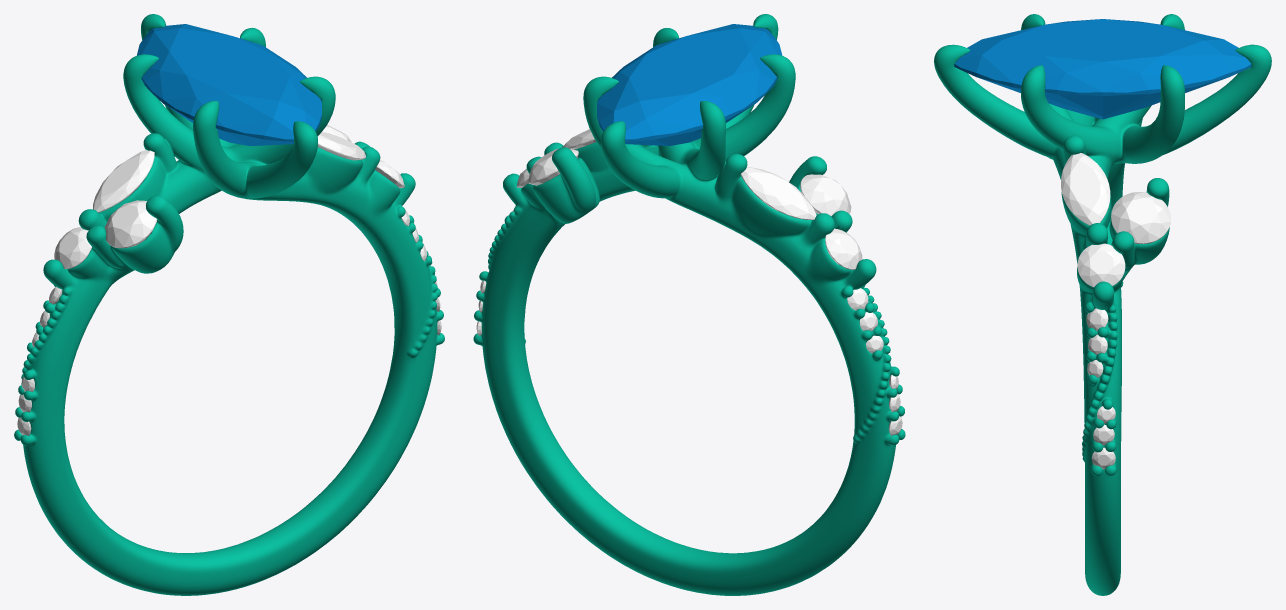
File: BE1D14842_MQ_200ct_RENDER.glb
3 views of the same model, side by side, from view 1: azimuth 30°, elevation 25°; view 2: azimuth 150°, elevation 25°; view 3: azimuth 270°, elevation 25° (orthographic).
Parts seen in each view (by area): view 1: Metal 01, CS_Diamond_Marquise, Diamond_Marquise_Side.015, Diamond_Round_Side.016, Diamond_Round_Side.017, Diamond_Marquise_Side.006; view 2: Metal 01, CS_Diamond_Marquise, Diamond_Marquise_Side.015, Diamond_Round_Side.016, Diamond_Round_Side.017, Diamond_Round_Side.007; view 3: Metal 01, CS_Diamond_Marquise, Diamond_Marquise_Side.006, Diamond_Round_Side.007, Diamond_Round_Side.008.
Part boxes in pixels (<box>): Metal 01: <box>14,14,444,595</box>; CS_Diamond_Marquise: <box>137,24,321,145</box>; Diamond_Marquise_Side.015: <box>93,150,154,212</box>; Diamond_Round_Side.016: <box>104,200,157,248</box>; Diamond_Round_Side.017: <box>54,227,91,269</box>; Diamond_Marquise_Side.006: <box>317,132,365,160</box>; Metal 01: <box>473,14,905,595</box>; CS_Diamond_Marquise: <box>597,24,782,145</box>; Diamond_Marquise_Side.015: <box>740,167,816,219</box>; Diamond_Round_Side.016: <box>800,174,851,216</box>; Diamond_Round_Side.017: <box>825,228,862,269</box>; Diamond_Round_Side.007: <box>528,148,578,185</box>; Metal 01: <box>934,14,1271,595</box>; CS_Diamond_Marquise: <box>954,19,1251,119</box>; Diamond_Marquise_Side.006: <box>1061,153,1110,225</box>; Diamond_Round_Side.007: <box>1111,192,1170,243</box>; Diamond_Round_Side.008: <box>1077,243,1125,287</box>.
Bounding box in the file's own units: 20.7 × 24.51 × 14.07.
